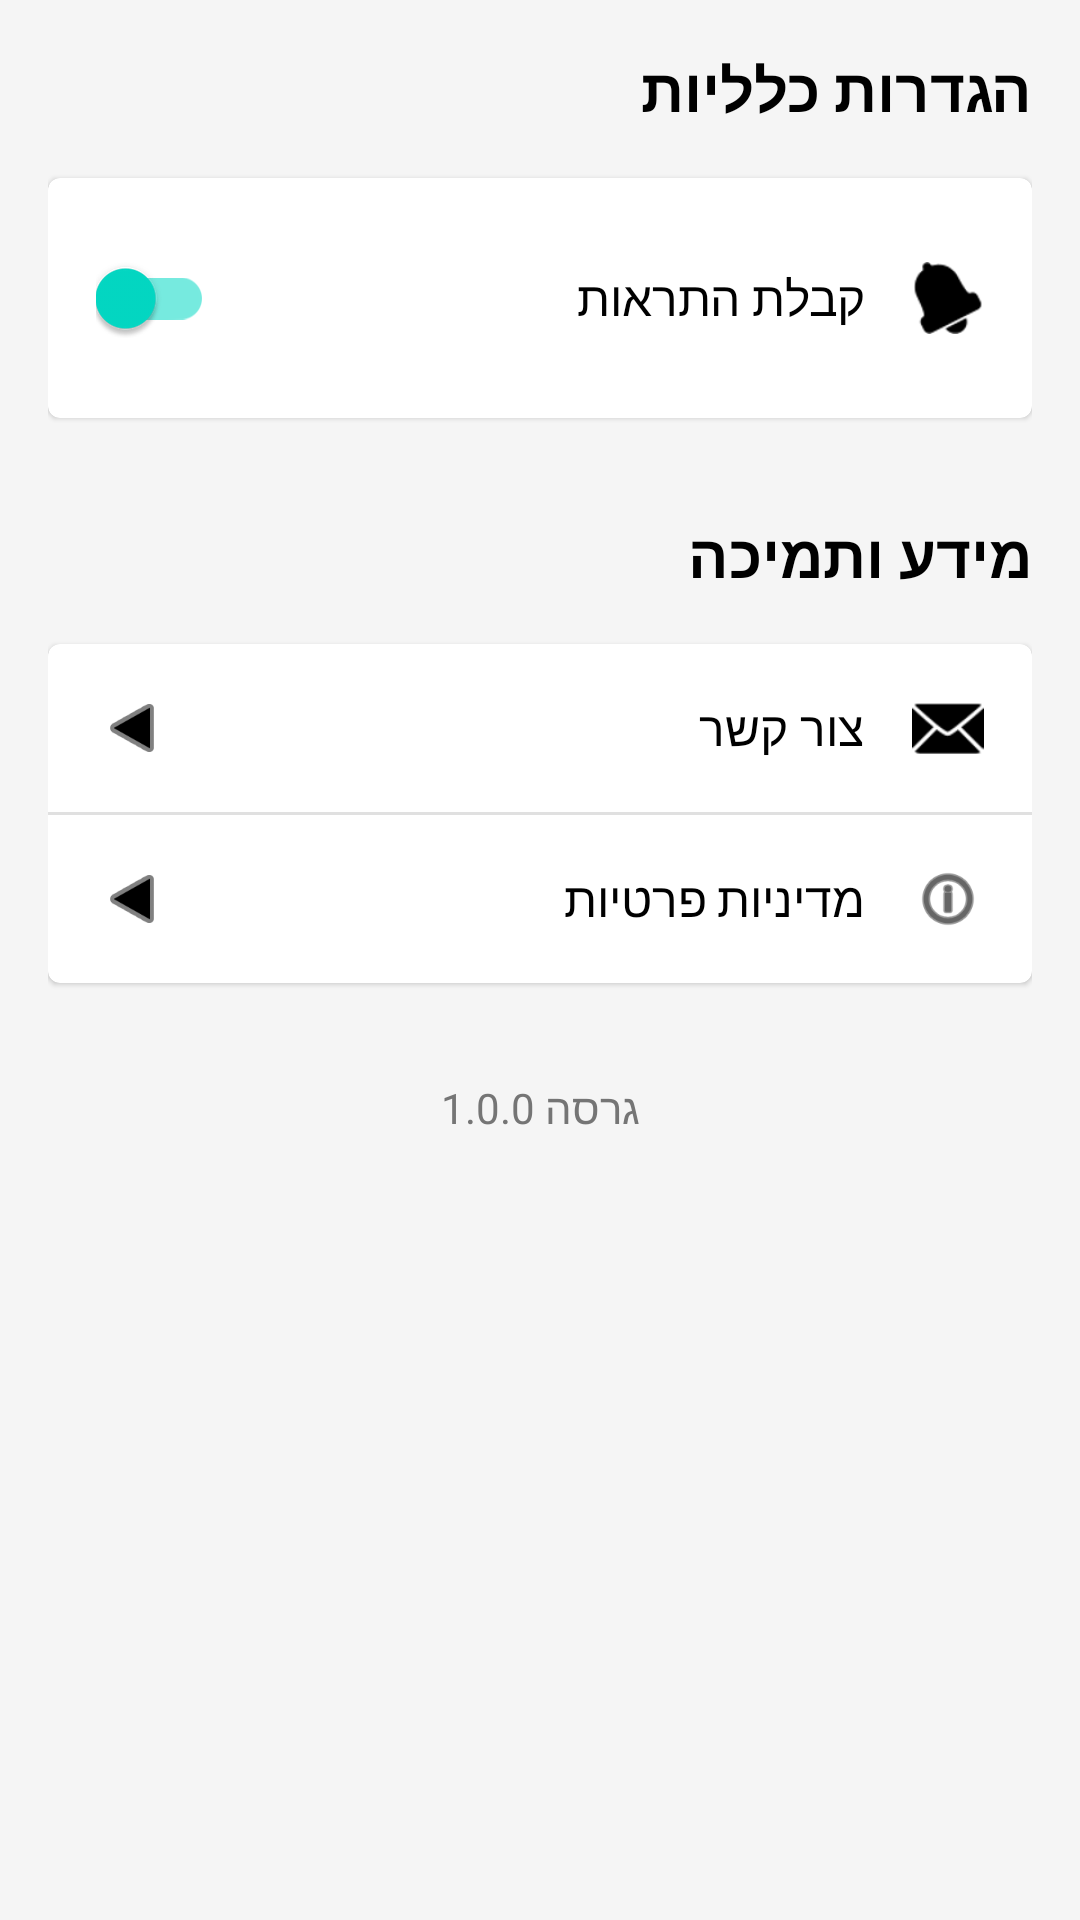

Point at icon controls on the screen. Image size 1080 x 1920, points as point (x, y).
email: point (948, 728)
info details: point (948, 899)
popup reminder: point (948, 298)
